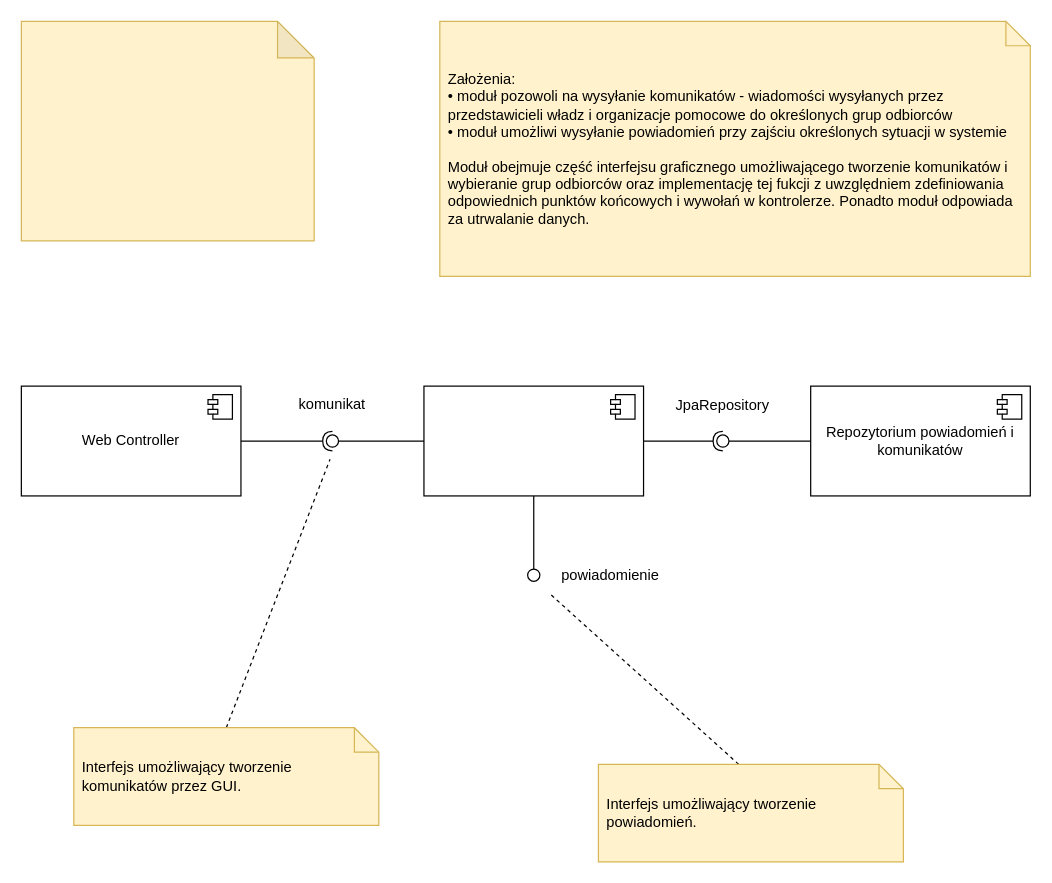
Image size: 1052x883. Some labels were removed from this diagram. The shapes that lost their labels are listed below. From the top down, each one's centre as x and y in pixels, then its label:
(x=167, y=130): Projektanci: • Kacper Komorowski • Patryk Augustyniak
(x=533, y=440): Moduł komunikacji
